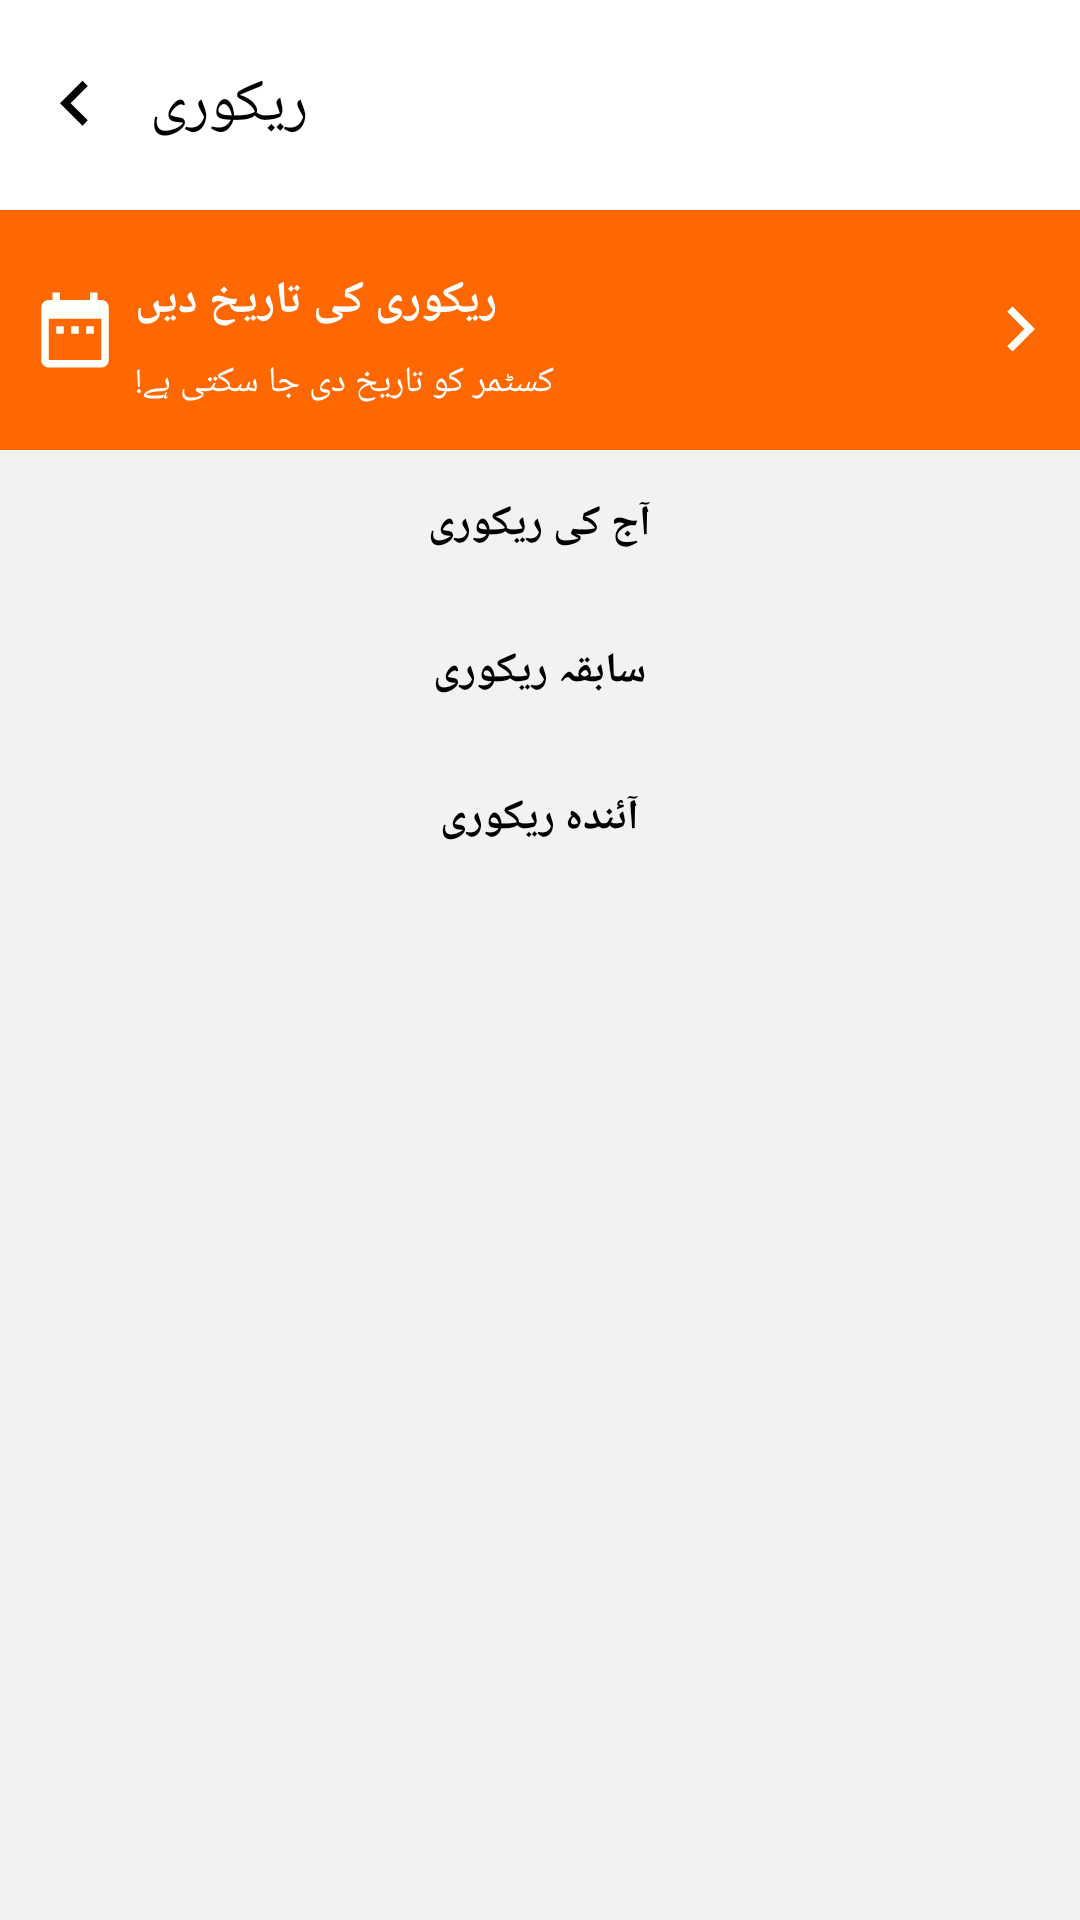

Screen size 1080*1920. Icon name, then its center in pixels as [x,y]:
rcdate: [75,330]
